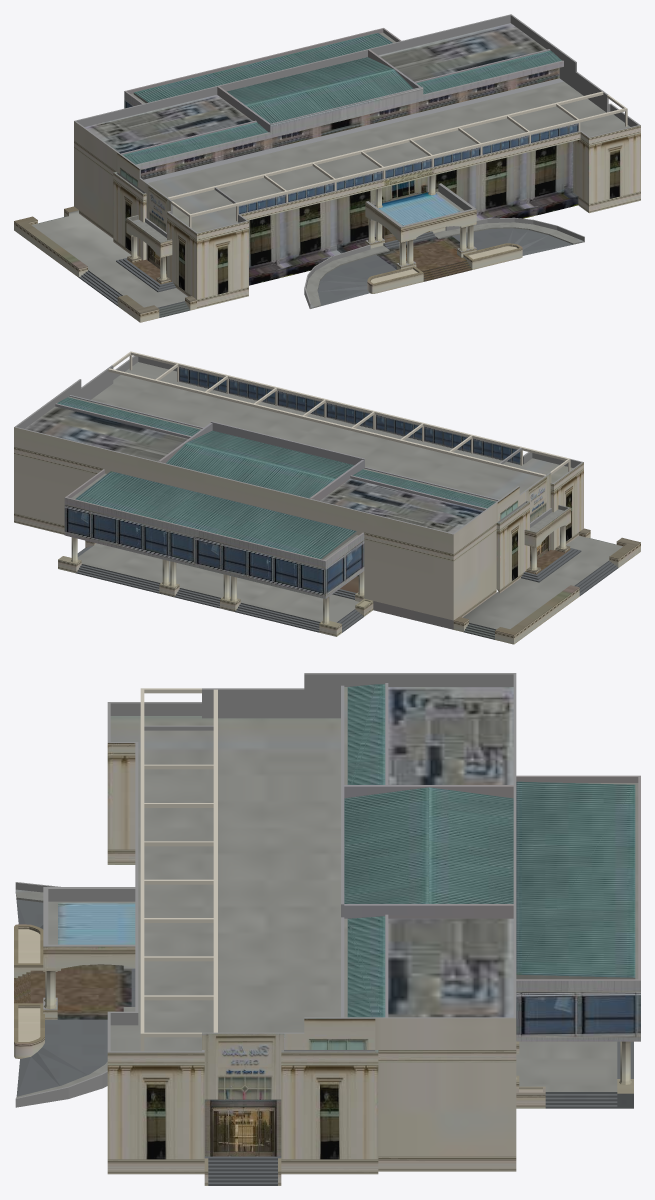
3 renders of one model, top to bottom at view 1: azimuth 30°, elevation 25°; view 2: azimuth 150°, elevation 25°; view 3: azimuth 270°, elevation 25°, orthographic. The views are drawn at different scales.
Visible parts, largest first — view 1: HN774_BlueLotusCenter; view 2: HN774_BlueLotusCenter; view 3: HN774_BlueLotusCenter.
Boxes of the visible parts, x1,y1,x2,y2 form: HN774_BlueLotusCenter: (14, 14, 640, 322); HN774_BlueLotusCenter: (14, 351, 640, 644); HN774_BlueLotusCenter: (14, 673, 640, 1185).
Bounding box in the file's own units: 69.51 × 12.37 × 45.27.
Materials: 1 (1 with a texture image).
